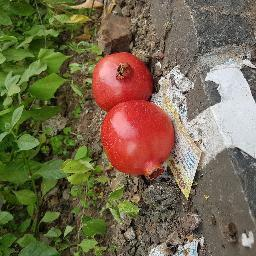Good_pomegranate: (99, 100, 178, 181), (92, 52, 160, 108)
